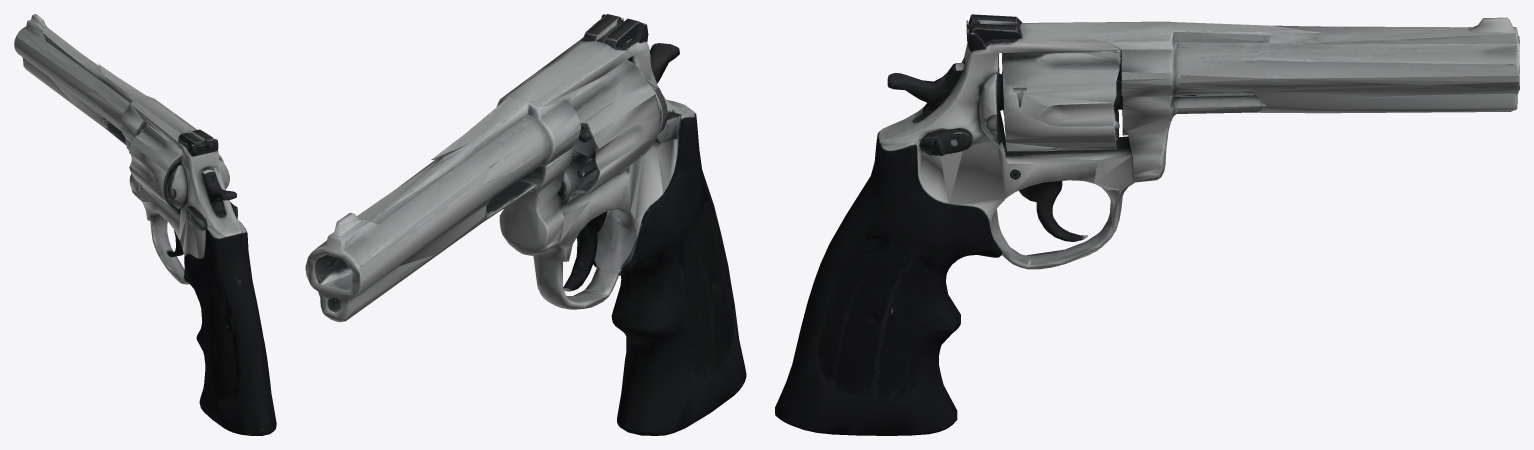
The model's file is pi_magnus.glb.
The picture shows the model from 3 angles, left to right: view 1: azimuth 30°, elevation 25°; view 2: azimuth 150°, elevation 25°; view 3: azimuth 270°, elevation 25°; orthographic projection. The views are drawn at different scales.
Visible parts, largest first — view 1: pi_magnus; view 2: pi_magnus; view 3: pi_magnus.
Part boxes in pixels (x1=…): pi_magnus: x1=14, y1=14, x2=276, y2=435; pi_magnus: x1=305, y1=14, x2=746, y2=435; pi_magnus: x1=775, y1=14, x2=1519, y2=435.
Bounding box in the file's own units: 0.0457 × 0.1795 × 0.3.
1 material, 1 textured.
